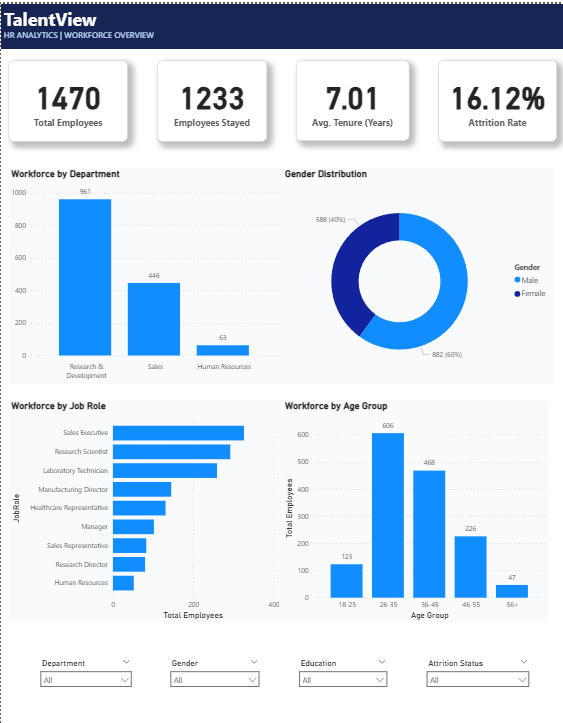

Layout of this report page (visuals, bound fields, positions):
{"tool":"powerbi","page":{"name":"Workforce Overview","canvas":[1000,1280],"ordinal":0},"visuals":[{"type":"card","fields":{"Values":["Measure Table.Total Employees"]},"box":[13.3,100,211.7,145],"z":0},{"type":"card","fields":{"Values":["Measure Table.Active Count"]},"box":[276.7,100,195,145],"z":1000},{"type":"card","fields":{"Values":["Measure Table.Attrition Rate"]},"box":[776.7,100,210,145],"z":2000},{"type":"card","fields":{"Values":["Measure Table.Average Years at Company"]},"box":[523.3,100,201.7,143.3],"z":3000},{"type":"clusteredColumnChart","title":"Workforce by Department","fields":{"Category":["DimDepartment.Department"],"Y":["Measure Table.Total Employees"]},"box":[13.3,290,486.7,385],"z":4000},{"type":"donutChart","title":"\tGender Distribution","fields":{"Category":["DimGender.Gender"],"Y":["Measure Table.Total Employees"]},"box":[500,290,483.3,385],"z":5000},{"type":"clusteredBarChart","title":"Workforce by Job Role","fields":{"Category":["DimJobRole.JobRole"],"Y":["Measure Table.Total Employees"]},"box":[13.3,705,486.7,395],"z":6000},{"type":"columnChart","title":"Workforce by Age Group","fields":{"Y":["Measure Table.Total Employees"],"Category":["FactEmployee.Age Group"]},"box":[500,705,473.3,395],"z":7000},{"type":"slicer","fields":{"Values":["DimDepartment.Department"]},"box":[60,1157.8,182,74],"z":8000},{"type":"slicer","fields":{"Values":["DimEducation.Education Name"]},"box":[520,1157.8,176,74],"z":9000},{"type":"slicer","fields":{"Values":["DimGender.Gender"]},"box":[292,1157.8,178,72],"z":10000},{"type":"shape","box":[0,0,1000,80],"z":11000},{"type":"textbox","box":[0,0,190,53.3],"z":12000},{"type":"textbox","box":[0,40,298.9,60],"z":13000},{"type":"slicer","fields":{"Values":["FactEmployee.Attrition"]},"box":[746,1157.8,202,74],"z":14000}]}

Visuals, with their boxes in screenshot pixels (x1, y1, x2, y2), scaled from the page's 1000x1280 canvas onto the 563x723 screenshot:
card - Measure Table.Total Employees: 7, 56, 127, 138
card - Measure Table.Active Count: 156, 56, 266, 138
card - Measure Table.Attrition Rate: 437, 56, 556, 138
card - Measure Table.Average Years at Company: 295, 56, 408, 137
"Workforce by Department" clusteredColumnChart: 7, 164, 282, 381
"	Gender Distribution" donutChart: 282, 164, 554, 381
"Workforce by Job Role" clusteredBarChart: 7, 398, 282, 621
"Workforce by Age Group" columnChart: 282, 398, 548, 621
slicer - DimDepartment.Department: 34, 654, 136, 696
slicer - DimEducation.Education Name: 293, 654, 392, 696
slicer - DimGender.Gender: 164, 654, 265, 695
shape: 0, 0, 562, 45
textbox: 0, 0, 107, 30
textbox: 0, 23, 168, 56
slicer - FactEmployee.Attrition: 420, 654, 534, 696
